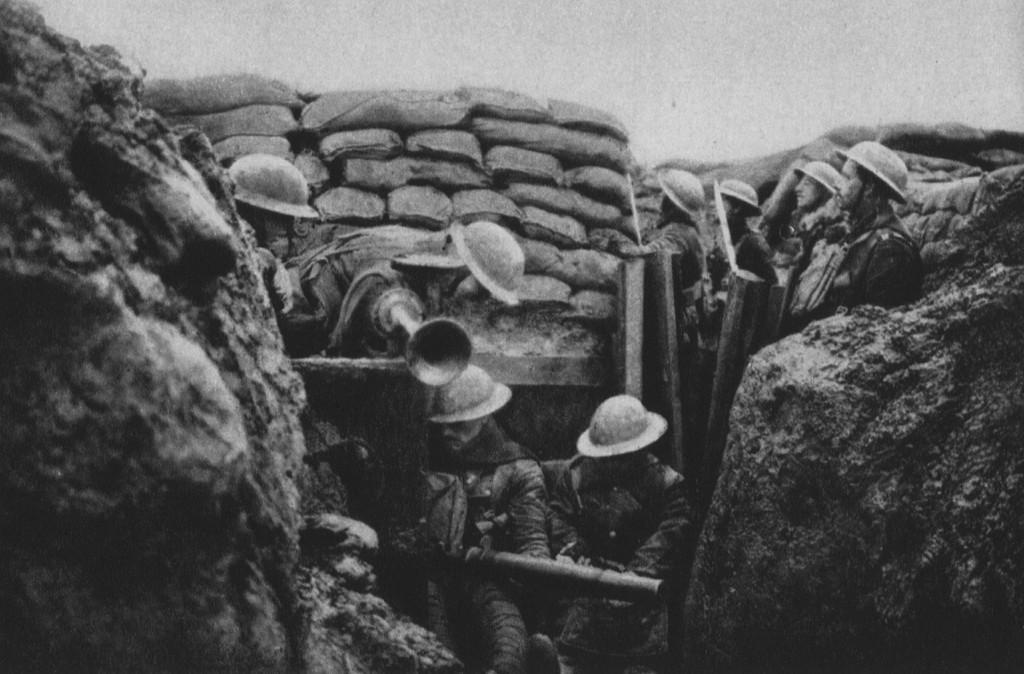Hat: (573, 396, 667, 452), (427, 364, 513, 423)
